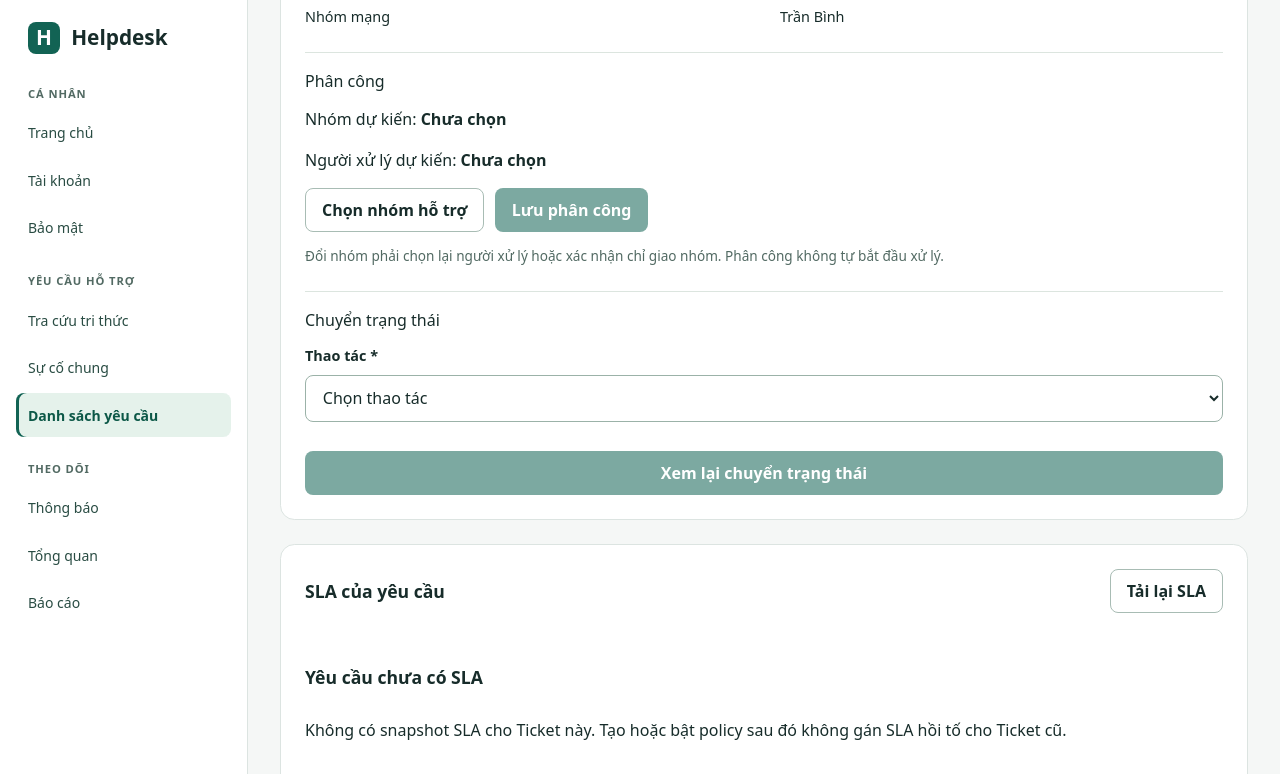
it: Ticket workflow from server capabilities › requires a public resolution summary and sends only workflow DTO plus server version
(page scrolled)
Select "Giải quyết yêu cầu" in the dropdown labelled "Thao tác" at (764, 398), box [305,375,1223,422]
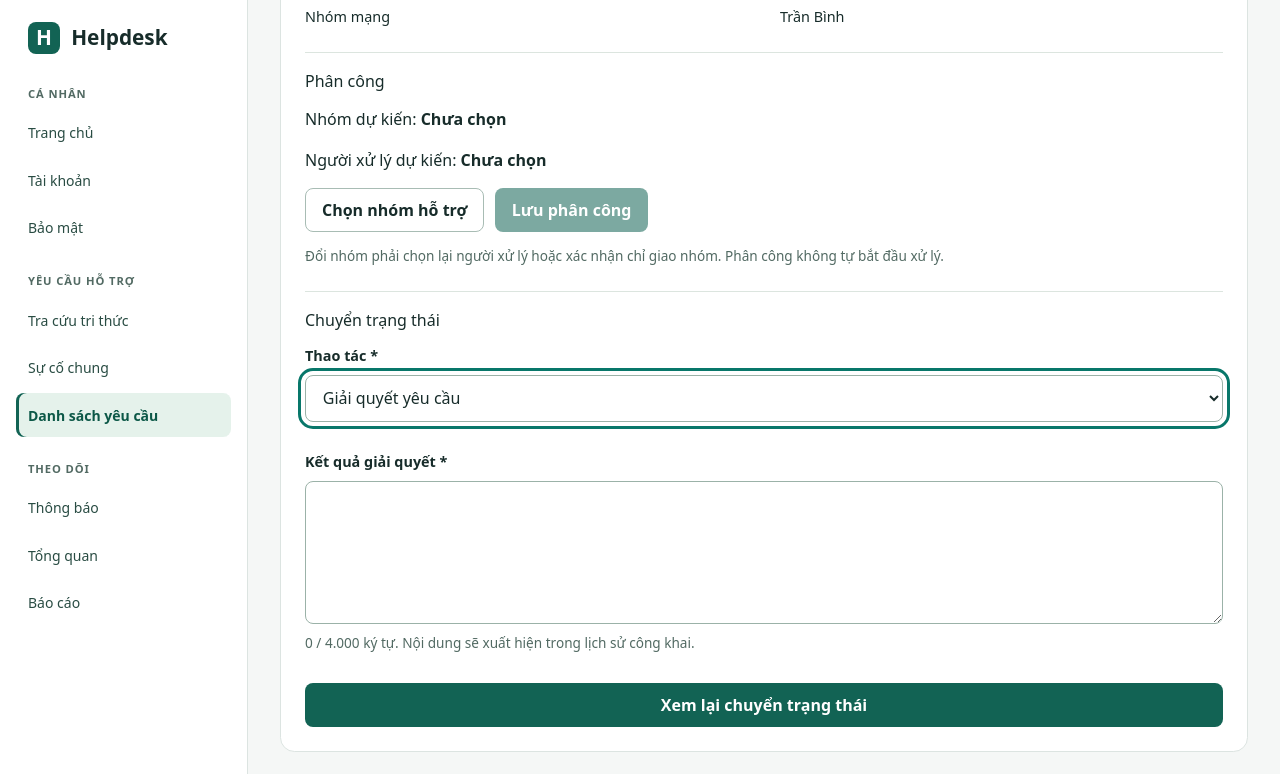
Click the button "Xem lại chuyển trạng thái" at (764, 705), box [305,683,1223,727]
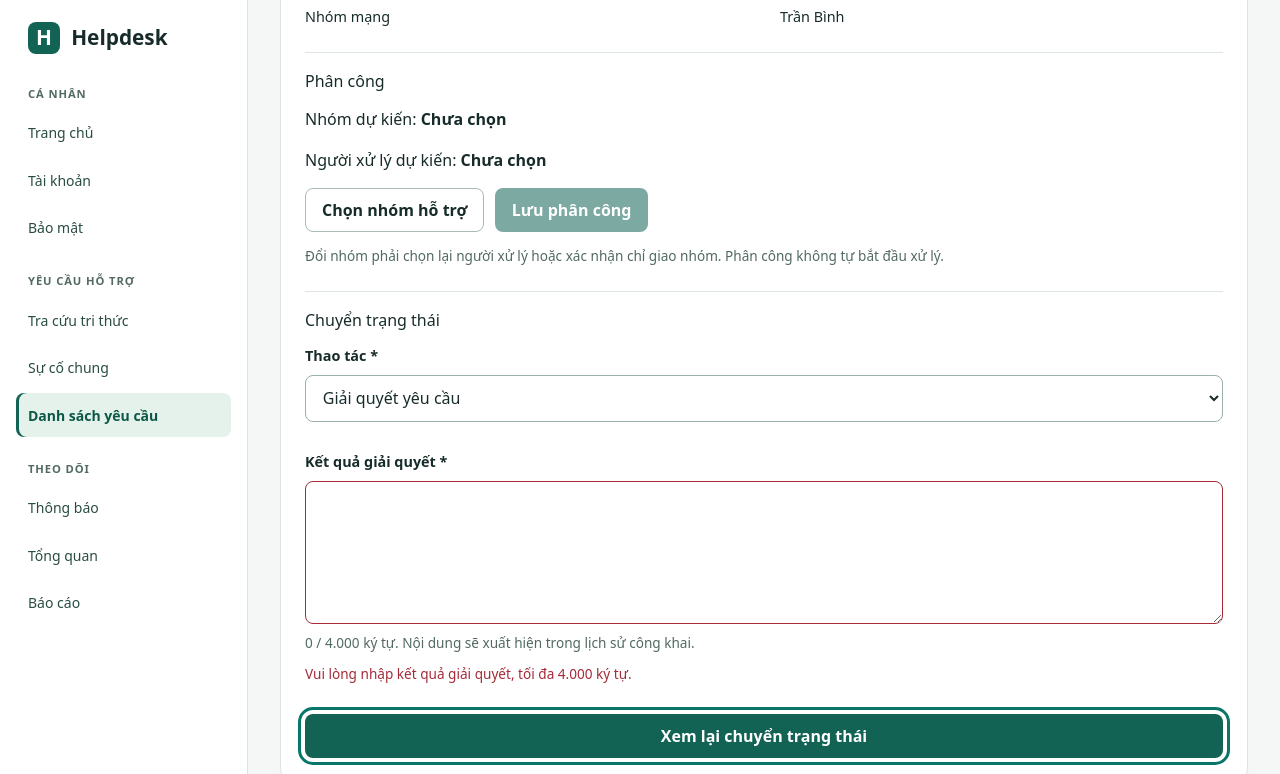
Now the text "Vui lòng nhập kết quả giải quyết, tối đa 4.000 ký tự." is shown, box [305,664,632,683]
Type "Đã sửa." into the text box labelled "Kết quả giải quyết" at (764, 552), box [305,481,1223,624]
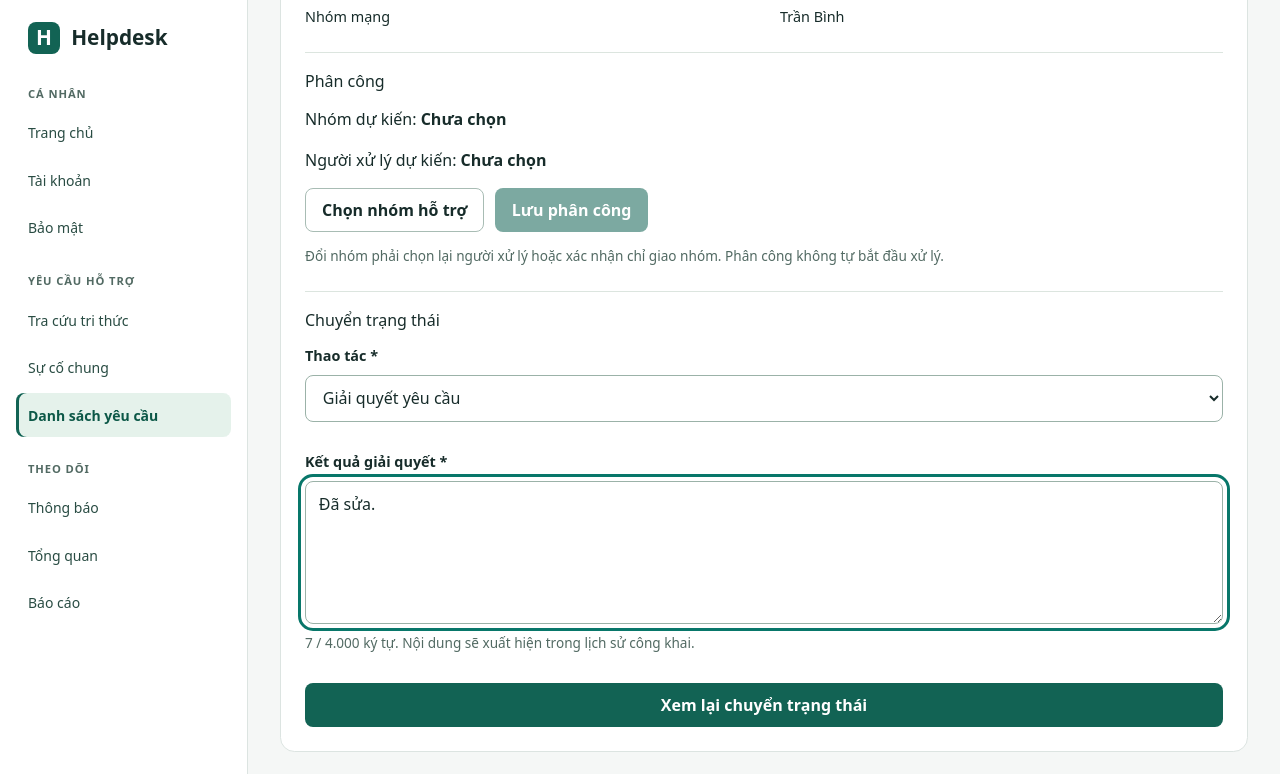
Click the button "Xem lại chuyển trạng thái" at (764, 705), box [305,683,1223,727]
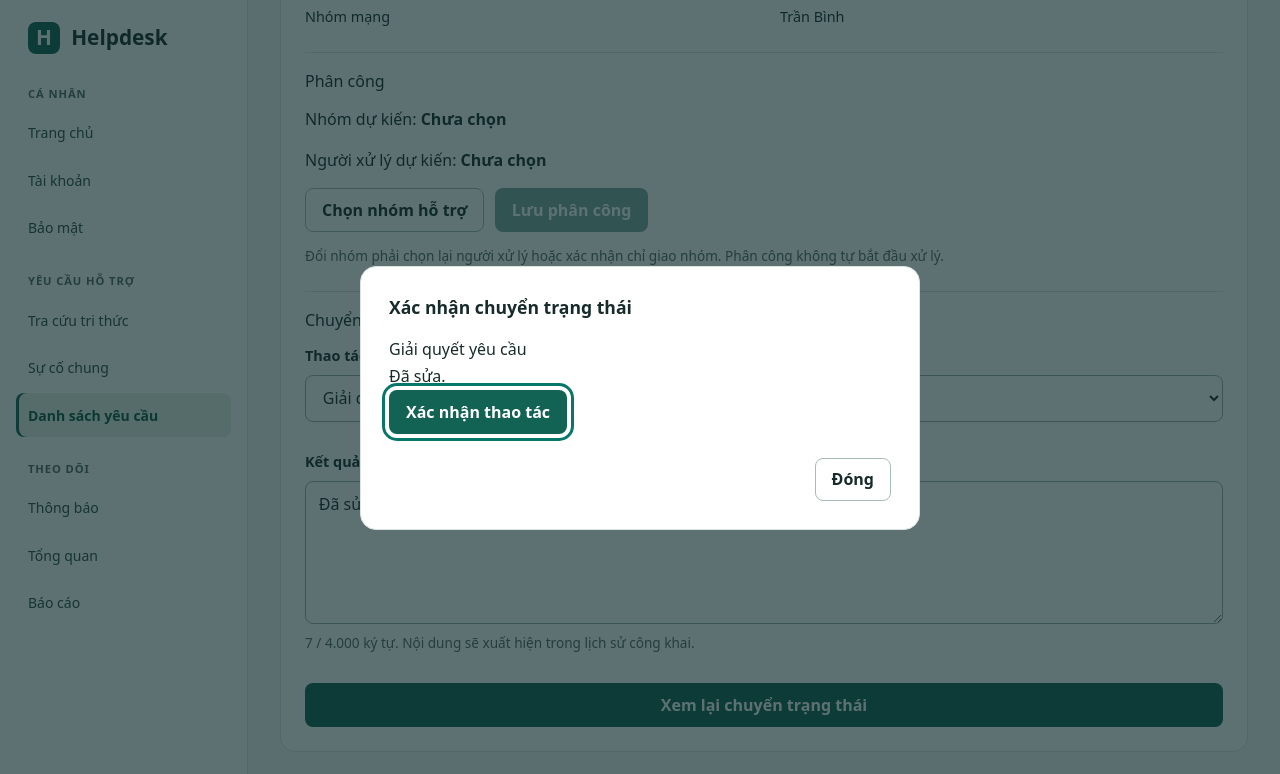
Click the button "Xác nhận thao tác" at (478, 412), box [389,390,567,434]
(page scrolled)
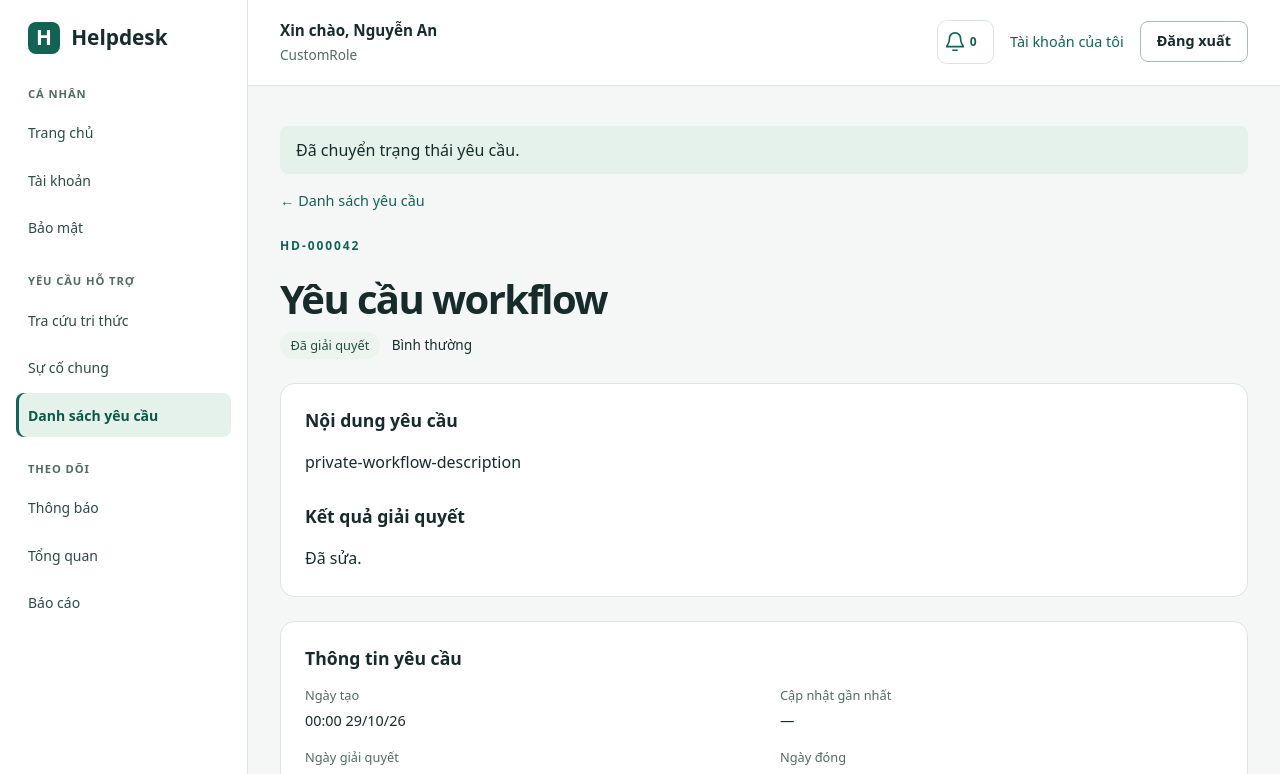
Now the heading "Kết quả giải quyết" is shown, box [305,504,465,528]
Now the text "Đã chuyển trạng thái yêu cầu." is shown, box [280,126,1248,174]
